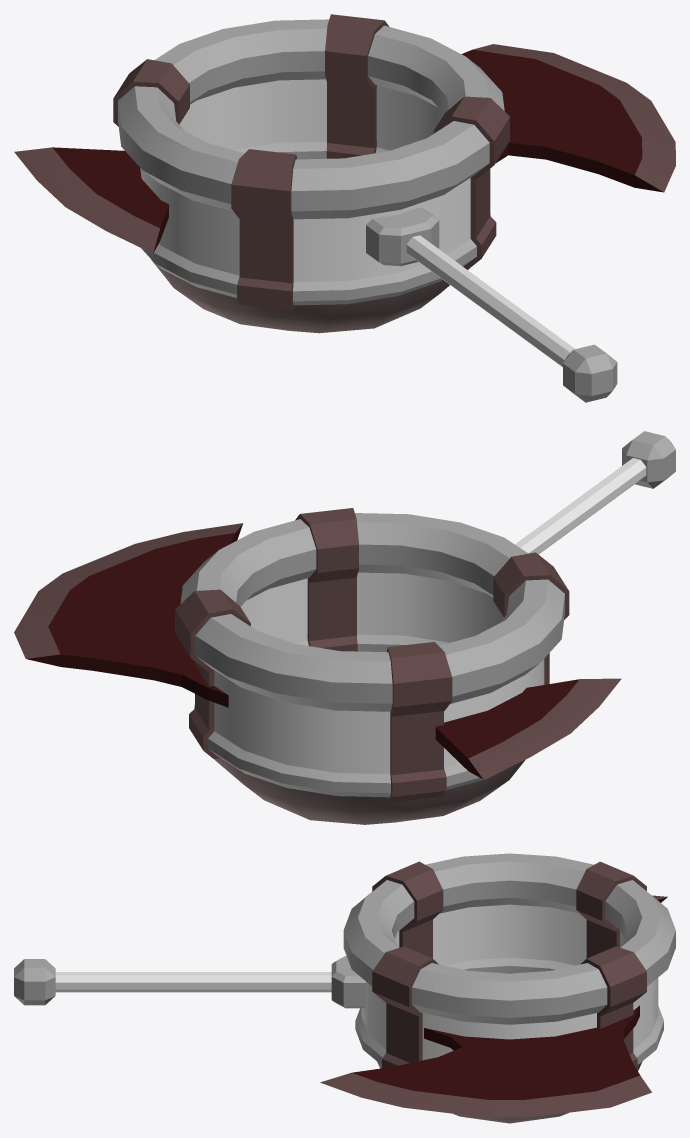
The model's file is MystifyingPan.fbx.
The picture shows the model from 3 angles, top to bottom: view 1: azimuth 30°, elevation 25°; view 2: azimuth 150°, elevation 25°; view 3: azimuth 270°, elevation 25°; orthographic projection. The views are drawn at different scales.
Parts seen in each view (by area): view 1: MystifyingPan; view 2: MystifyingPan; view 3: MystifyingPan.
Boxes of the visible parts, <box> form: MystifyingPan: <box>14,14,675,402</box>; MystifyingPan: <box>14,431,675,824</box>; MystifyingPan: <box>14,853,675,1123</box>.
Size of the model in its own units: 1.14 by 0.4269 by 1.39.
